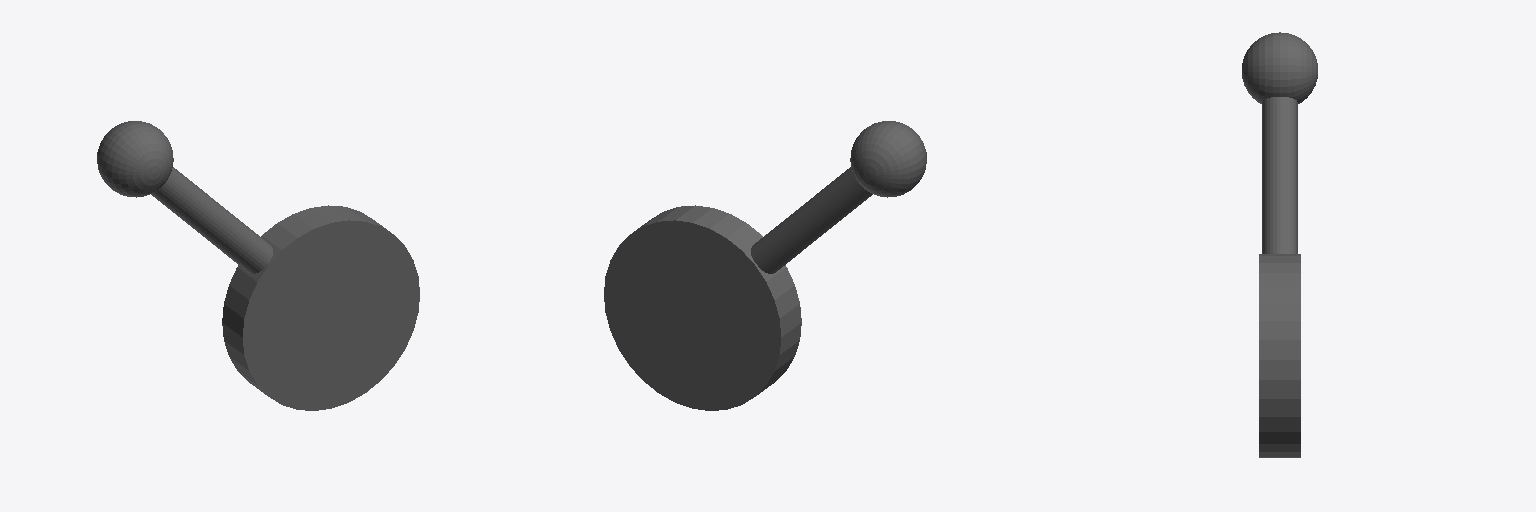
Rendered from Lever.obj.
The picture shows the model from 3 angles: view 1: azimuth 30°, elevation 25°; view 2: azimuth 150°, elevation 25°; view 3: azimuth 270°, elevation 25°; orthographic projection.
Visible parts, largest first — view 1: Lever1_Cylinder.002; view 2: Lever1_Cylinder.002; view 3: Lever1_Cylinder.002.
Boxes of the visible parts, x1=… form: Lever1_Cylinder.002: x1=97, y1=121, x2=419, y2=410; Lever1_Cylinder.002: x1=604, y1=121, x2=926, y2=410; Lever1_Cylinder.002: x1=1242, y1=32, x2=1317, y2=457.
Size of the model in its own units: 0.2438 by 0.2438 by 0.0527.